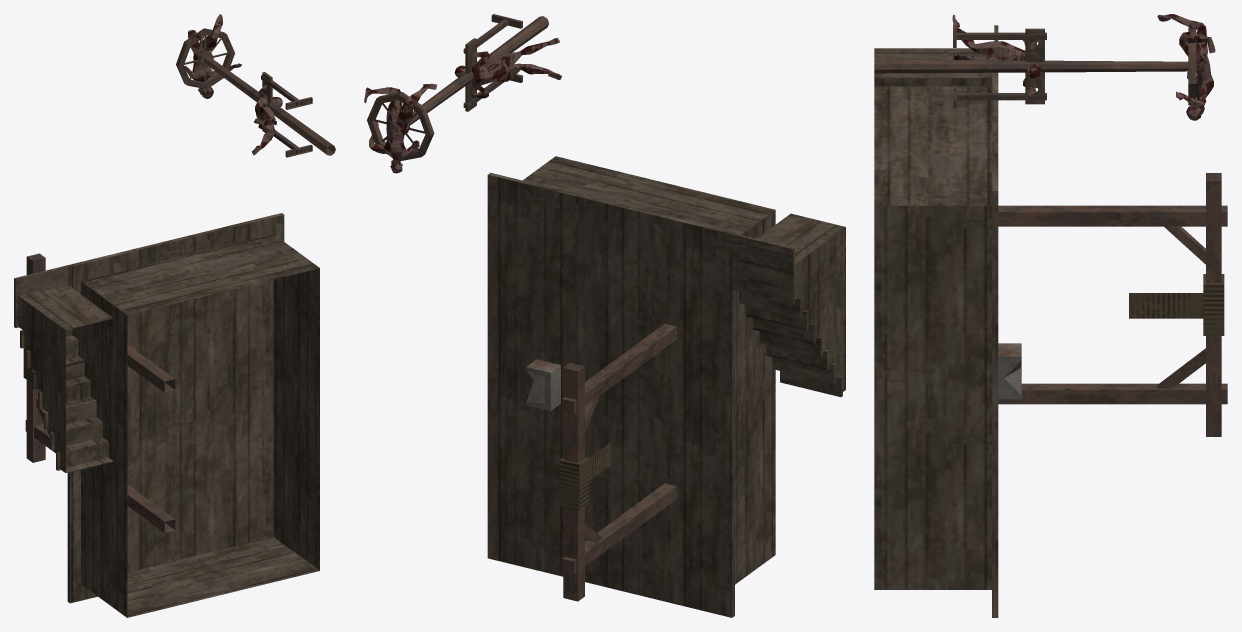
The model's file is TortureDevices.fbx.
The picture shows the model from 3 angles, left to right: view 1: azimuth 30°, elevation 25°; view 2: azimuth 150°, elevation 25°; view 3: azimuth 270°, elevation 25°; orthographic projection. The views are drawn at different scales.
Visible parts, largest first — view 1: Scaffold, Stairs, Gallows, Wheel, Body_Wheel, Pillory, Body_Pillory; view 2: Scaffold, Stairs, Gallows, Wheel, Body_Wheel, Body_Pillory, Choppingblock, Pillory; view 3: Scaffold, Gallows, Wheel, Stairs, Pillory, Body_Wheel, Body_Pillory, Choppingblock.
Part boxes in pixels (left/top/right/bottom): Scaffold: left=67, top=213, right=319, bottom=617; Stairs: left=14, top=265, right=113, bottom=472; Gallows: left=23, top=253, right=175, bottom=532; Wheel: left=176, top=28, right=335, bottom=155; Body_Wheel: left=184, top=14, right=241, bottom=98; Pillory: left=261, top=72, right=312, bottom=157; Body_Pillory: left=251, top=84, right=282, bottom=155; Scaffold: left=487, top=156, right=775, bottom=617; Stairs: left=732, top=213, right=845, bottom=397; Gallows: left=559, top=323, right=676, bottom=601; Wheel: left=367, top=16, right=548, bottom=161; Body_Wheel: left=364, top=83, right=436, bottom=173; Body_Pillory: left=454, top=38, right=561, bottom=98; Choppingblock: left=526, top=359, right=560, bottom=410; Pillory: left=463, top=14, right=522, bottom=111; Scaffold: left=874, top=72, right=998, bottom=617; Gallows: left=998, top=173, right=1227, bottom=436; Wheel: left=874, top=28, right=1196, bottom=105; Stairs: left=874, top=25, right=998, bottom=86; Pillory: left=953, top=24, right=1046, bottom=108; Body_Wheel: left=1157, top=14, right=1215, bottom=120; Body_Pillory: left=952, top=14, right=1041, bottom=95; Choppingblock: left=998, top=343, right=1021, bottom=399.
Size of the model in its own units: 557 by 836 by 450.
